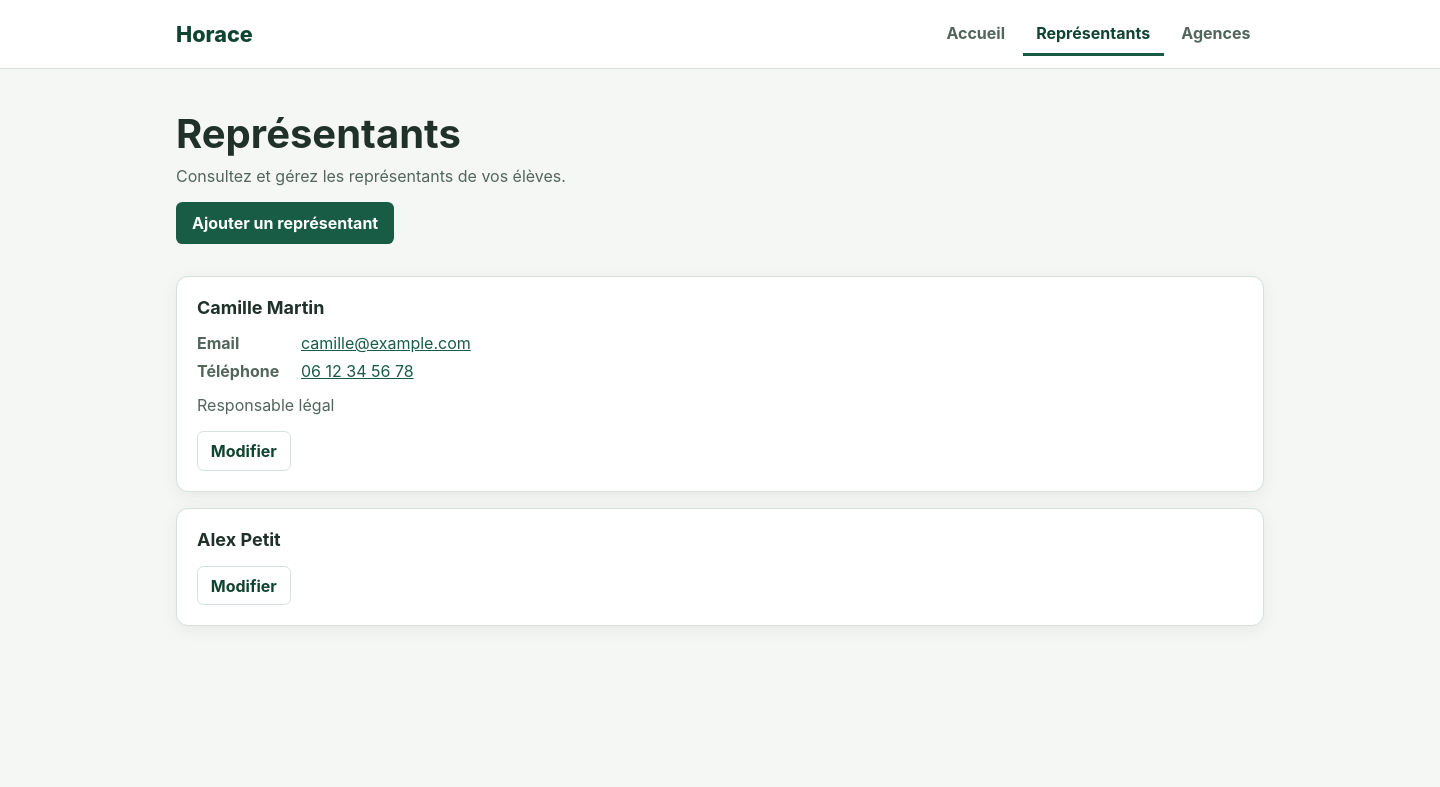
Scenario: page représentants › crée un représentant, omet les champs vides et actualise la liste
Expected: the heading "Camille Martin" is shown, x1=197 y1=297 x2=324 y2=318
Click the button "Ajouter un représentant".
click(285, 223)  # box x1=176 y1=202 x2=394 y2=244
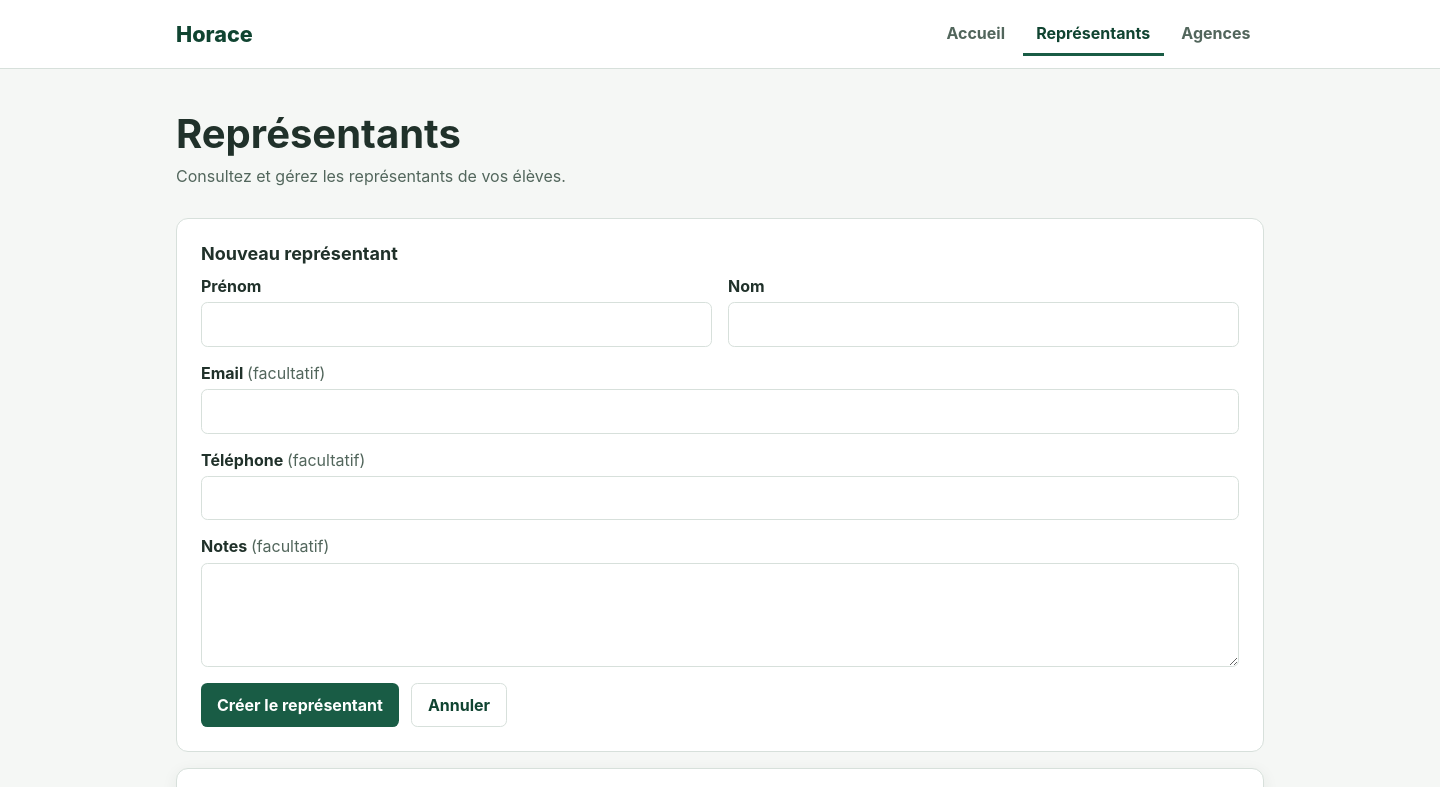
Type " Louise " into the field labelled "Prénom".
click(456, 325); type(" Louise ")  # box x1=201 y1=302 x2=712 y2=347
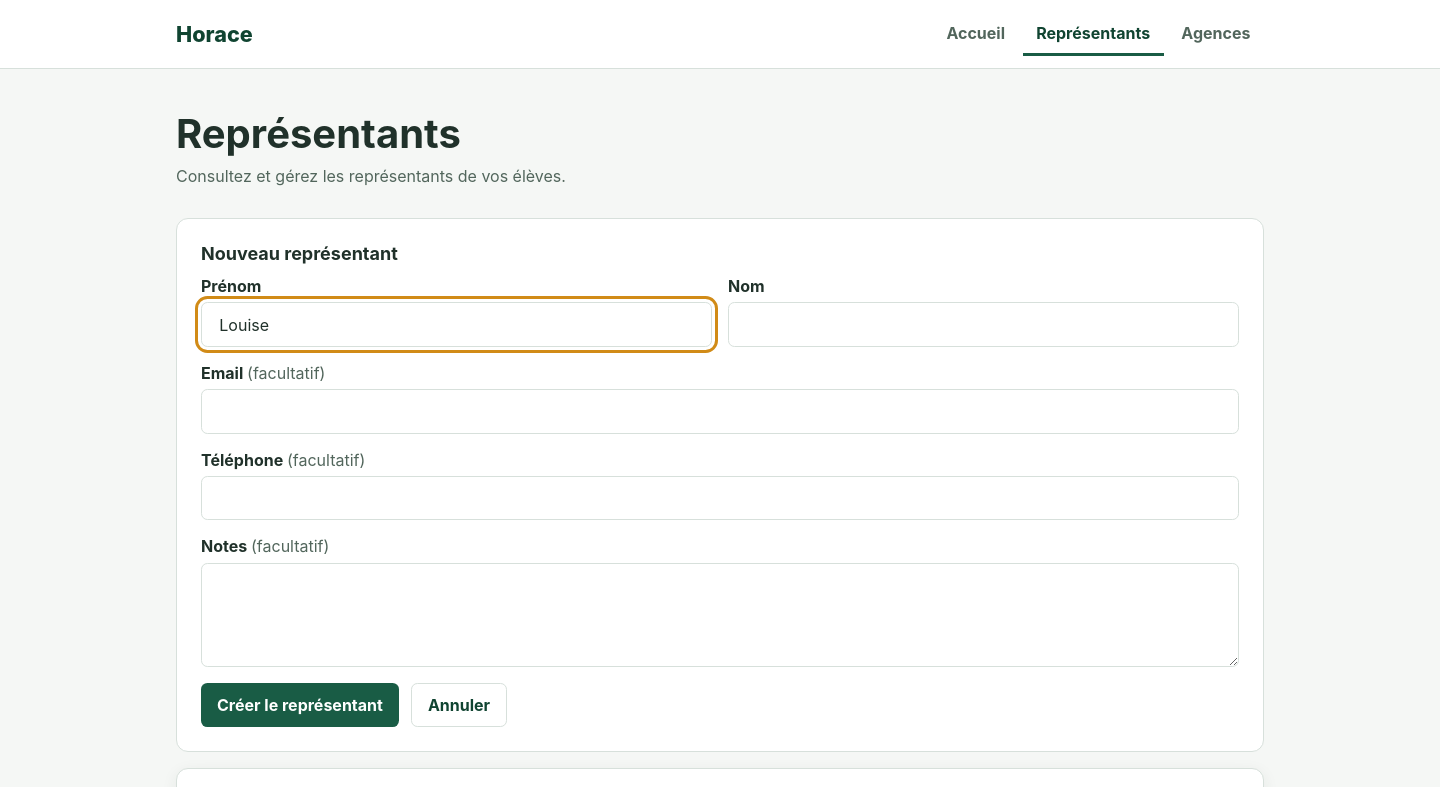
Type " Durand " into the field labelled "Nom".
click(984, 325); type(" Durand ")  # box x1=728 y1=302 x2=1239 y2=347
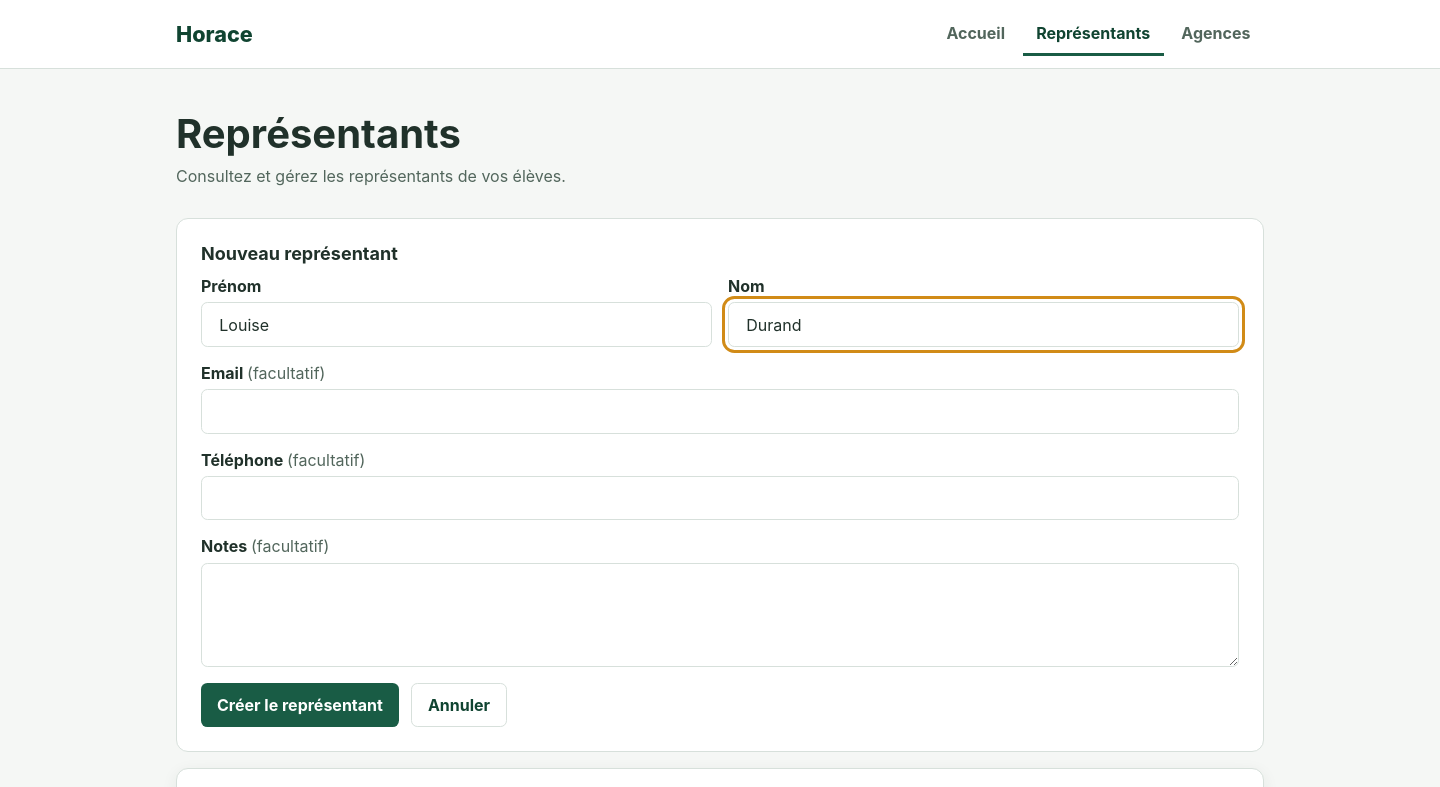
Click the button "Créer le représentant".
click(300, 705)  # box x1=201 y1=683 x2=399 y2=728
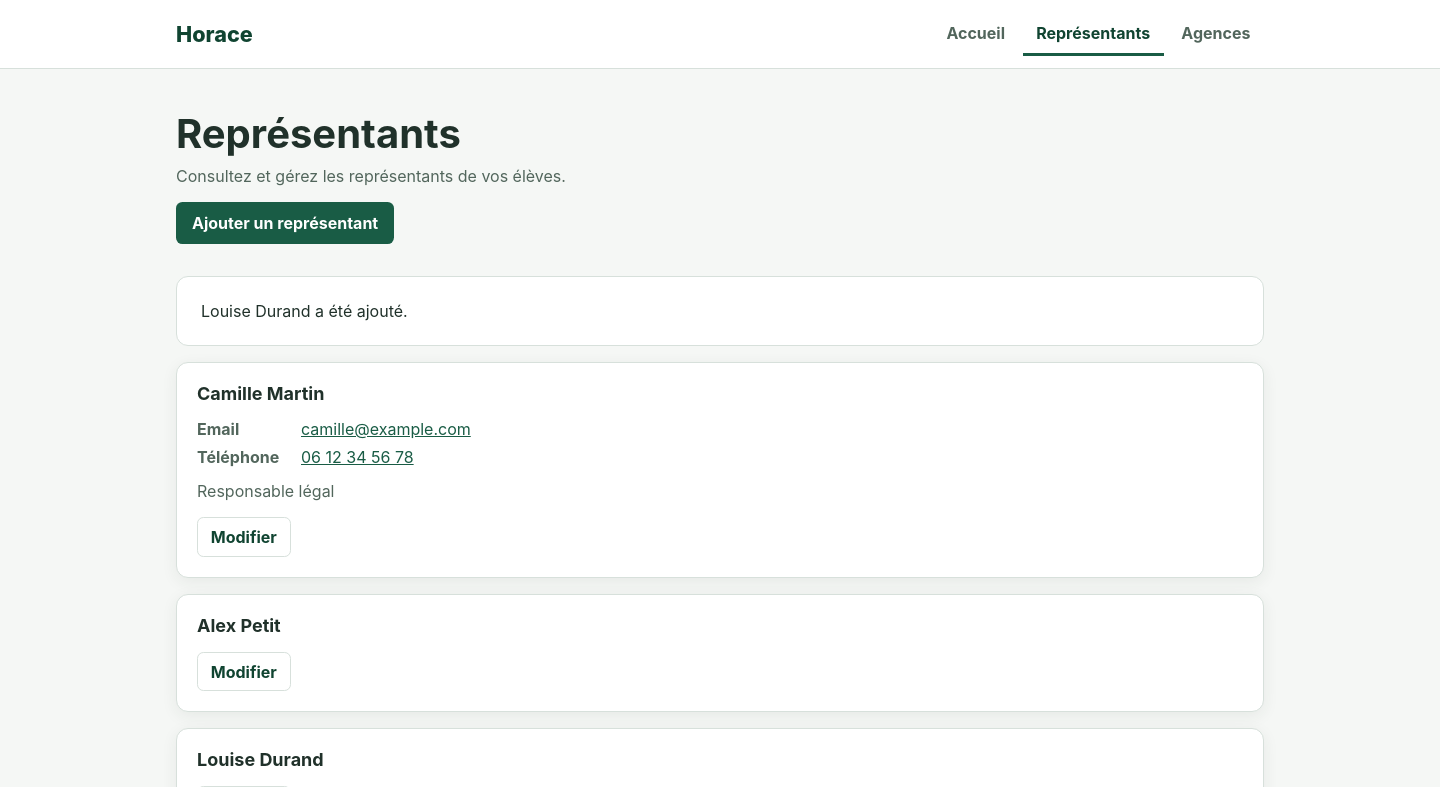
Expected: the text "Louise Durand a été ajouté." is shown, x1=201 y1=301 x2=408 y2=321
Expected: the heading "Louise Durand" is shown, x1=197 y1=749 x2=324 y2=770
